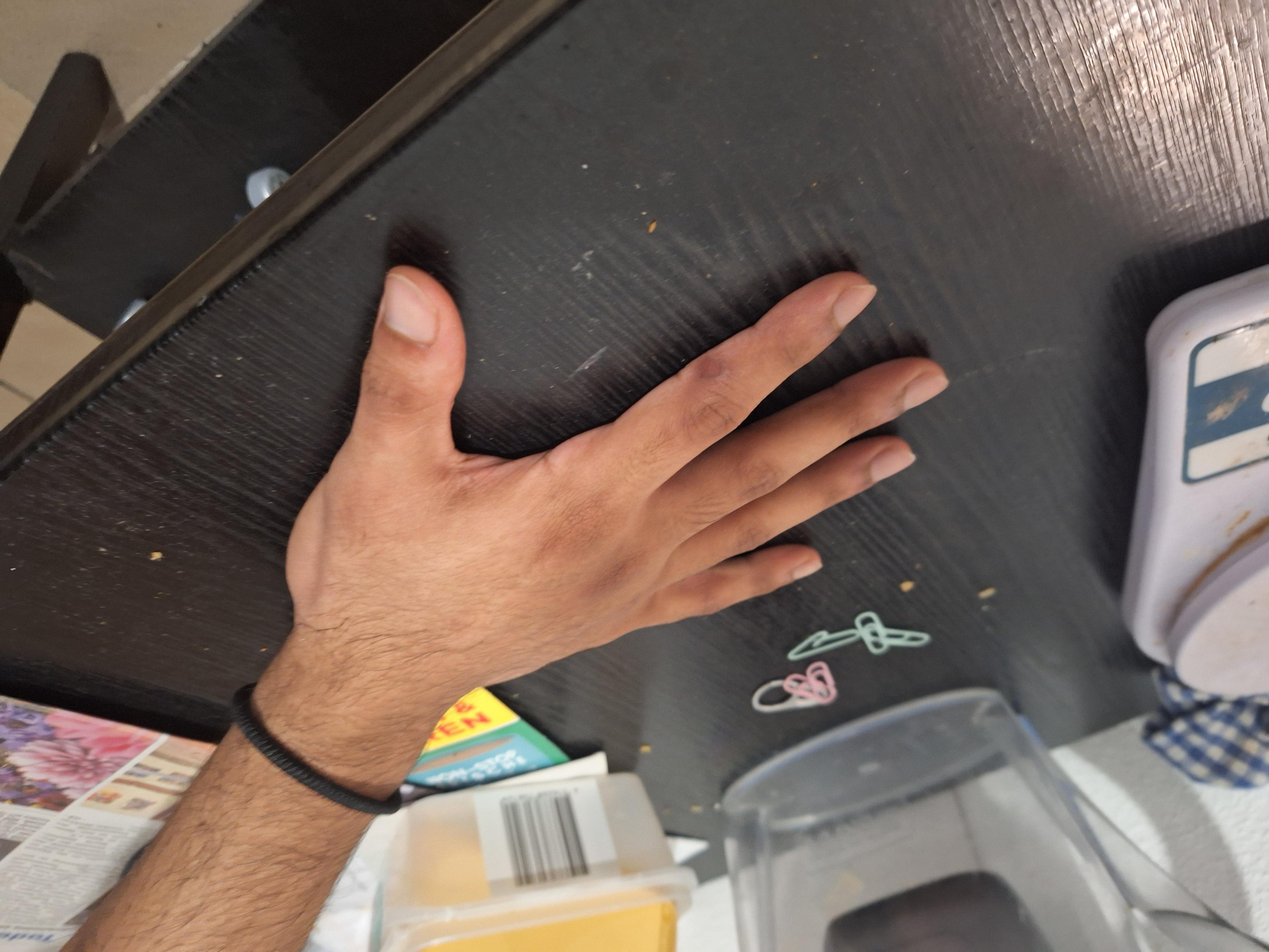Fingernail: (383, 275, 438, 346), (833, 285, 877, 329), (903, 372, 949, 412), (870, 446, 915, 483), (792, 559, 820, 581)
